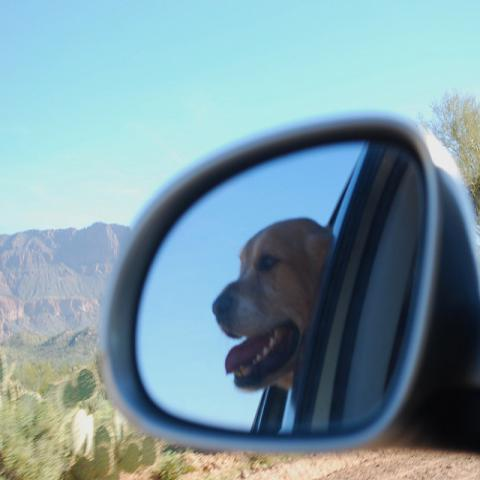car: (98, 114, 480, 456)
